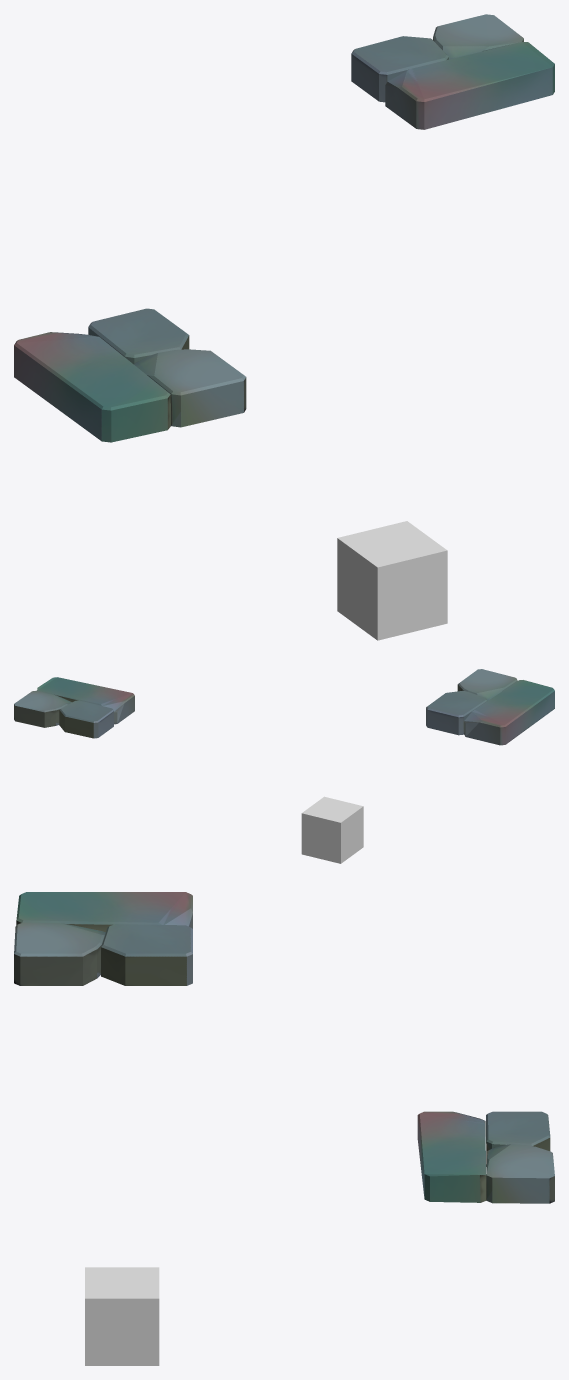
Rendered from home-floor011.fbx.
3 renders of one model, top to bottom at view 1: azimuth 30°, elevation 25°; view 2: azimuth 150°, elevation 25°; view 3: azimuth 270°, elevation 25°, orthographic. The views are drawn at different scales.
Parts seen in each view (by area): view 1: Cube.008, Cube.003, home-floor011; view 2: Cube.008, Cube.003, home-floor011; view 3: Cube.008, Cube.003, home-floor011.
Part boxes in pixels (box(x1,y1,x2,y2)): Cube.008: box(14, 308, 246, 442); Cube.003: box(351, 14, 554, 129); home-floor011: box(337, 521, 447, 640); Cube.008: box(426, 669, 554, 745); Cube.003: box(14, 677, 134, 738); home-floor011: box(301, 796, 363, 863); Cube.008: box(14, 892, 192, 985); Cube.003: box(417, 1111, 554, 1203); home-floor011: box(85, 1267, 159, 1365).
Size of the model in its own units: 872 by 433 by 657.
